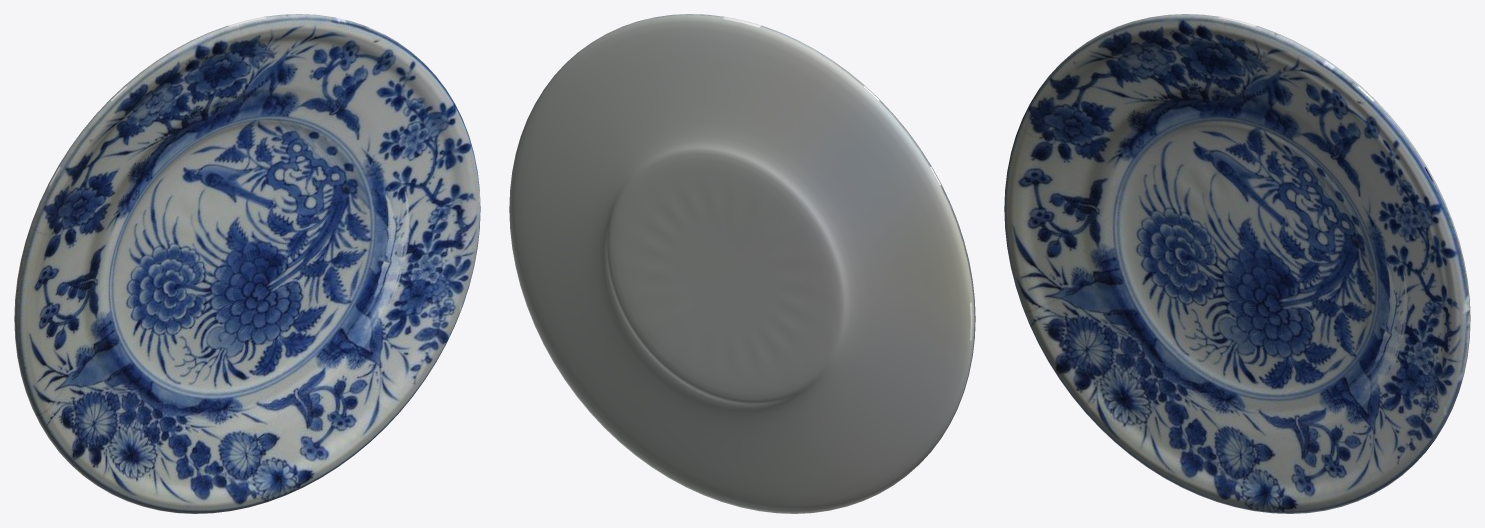
The picture shows the model from 3 angles, left to right: view 1: azimuth 30°, elevation 25°; view 2: azimuth 150°, elevation 25°; view 3: azimuth 330°, elevation 25°; orthographic projection.
Bounding box in the file's own units: 1 × 1 × 0.0793.
1 material, 1 textured.
